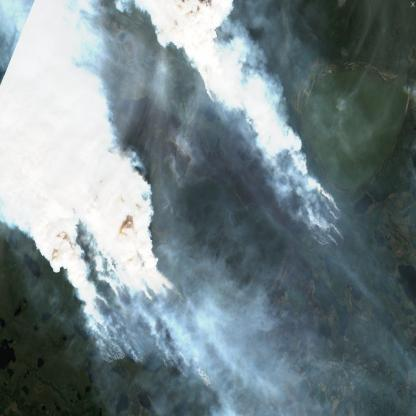fire: (58, 0, 344, 392)
